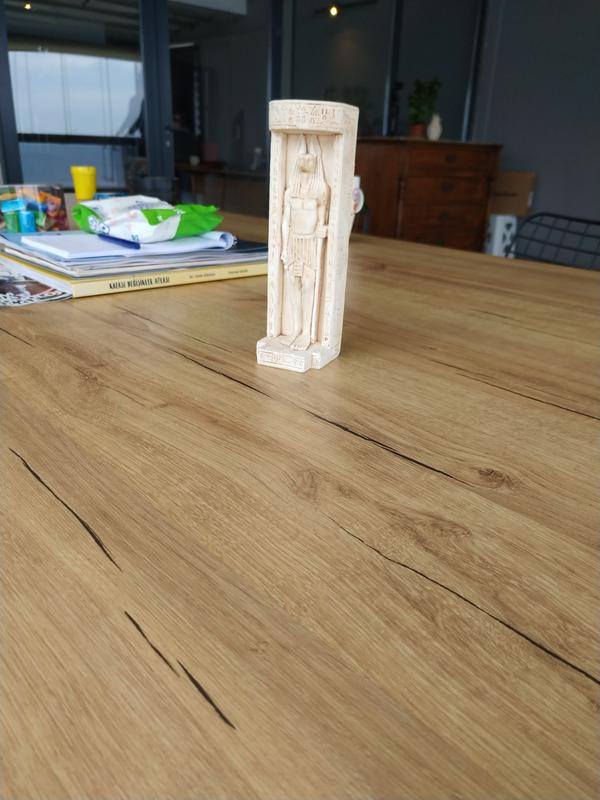heykel: (252, 94, 367, 378)
